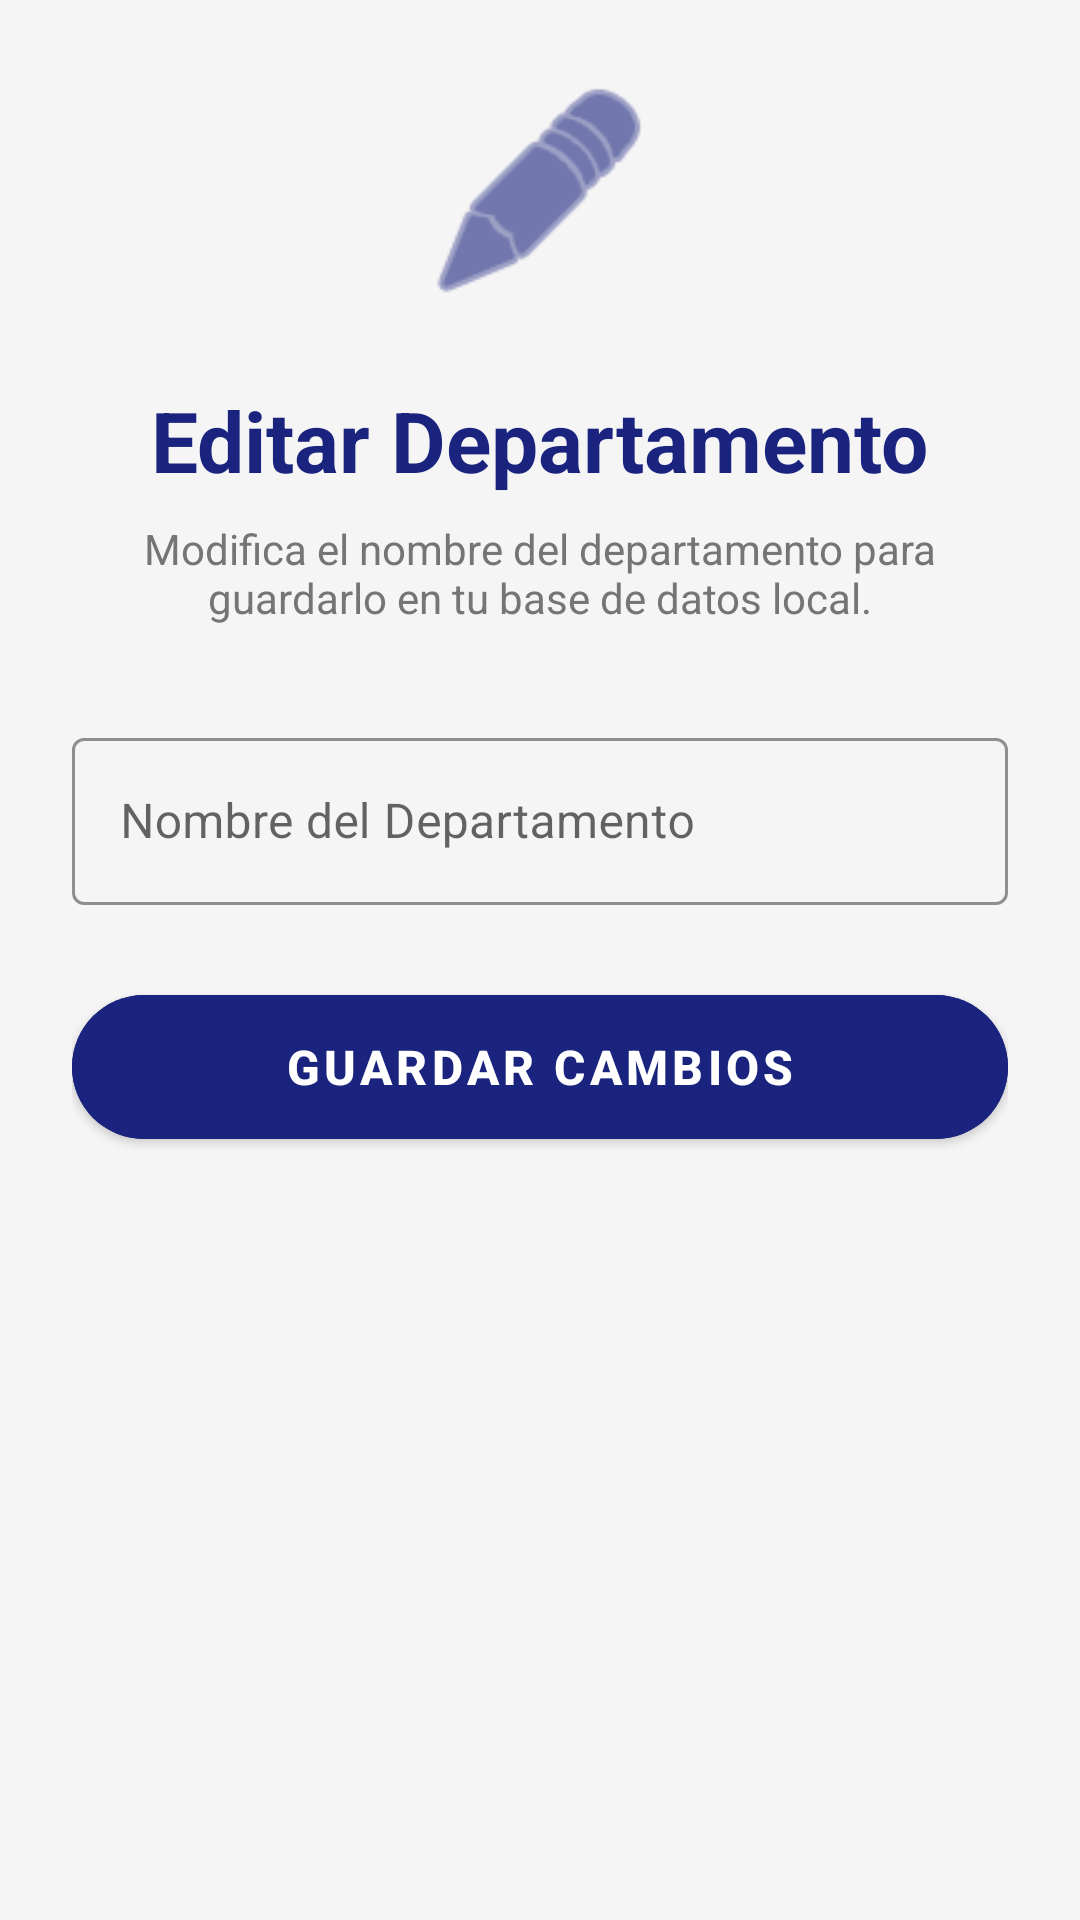

Locate icon controls on the screen. Image size 1080px x 1920px, boxes as (left=x1, top=y1, right=x2, bottom=y2).
Icono Editar: (left=437, top=89, right=641, bottom=292)
